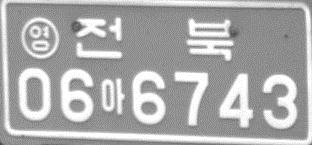0: (15, 66, 53, 122)
3: (262, 72, 299, 130)
4: (217, 73, 255, 129)
6: (130, 69, 167, 125), (59, 67, 94, 124)
7: (173, 70, 209, 127)
아: (100, 78, 126, 115)
영: (19, 16, 59, 59)
전북_D: (74, 17, 232, 62)
